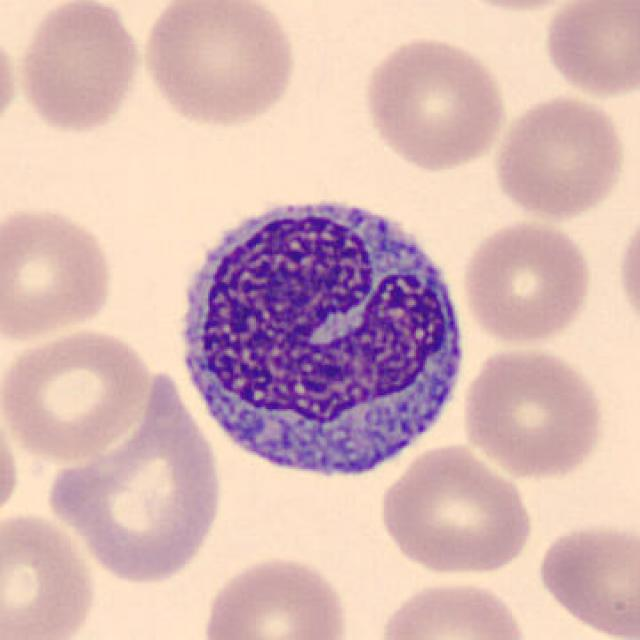Monocyte: (160, 180, 475, 492)
RBC: (41, 377, 229, 587), (375, 441, 537, 578), (2, 324, 156, 464), (136, 0, 300, 130), (359, 33, 510, 173), (457, 342, 608, 481), (12, 0, 146, 138), (489, 92, 629, 222), (458, 217, 596, 347), (0, 201, 119, 346), (197, 552, 354, 640), (0, 506, 100, 640), (534, 518, 638, 640), (374, 575, 534, 640), (538, 0, 638, 100), (0, 386, 25, 531), (613, 203, 640, 337), (0, 18, 23, 141), (441, 0, 594, 14)
